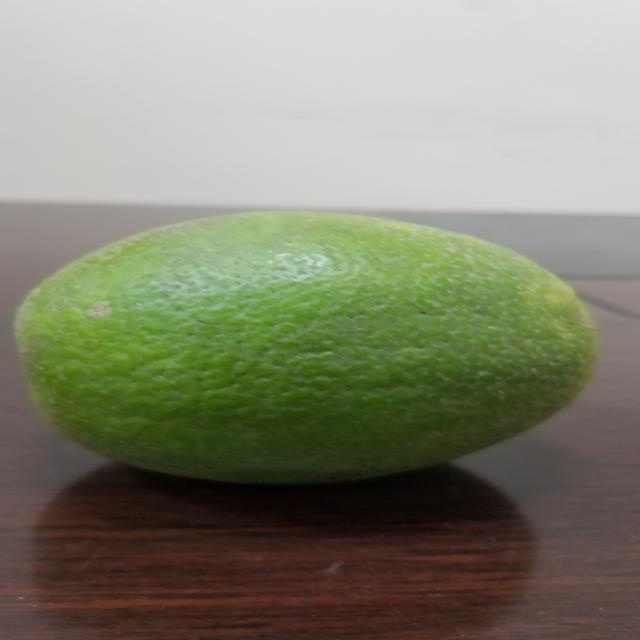agrume: (0, 196, 640, 480)
